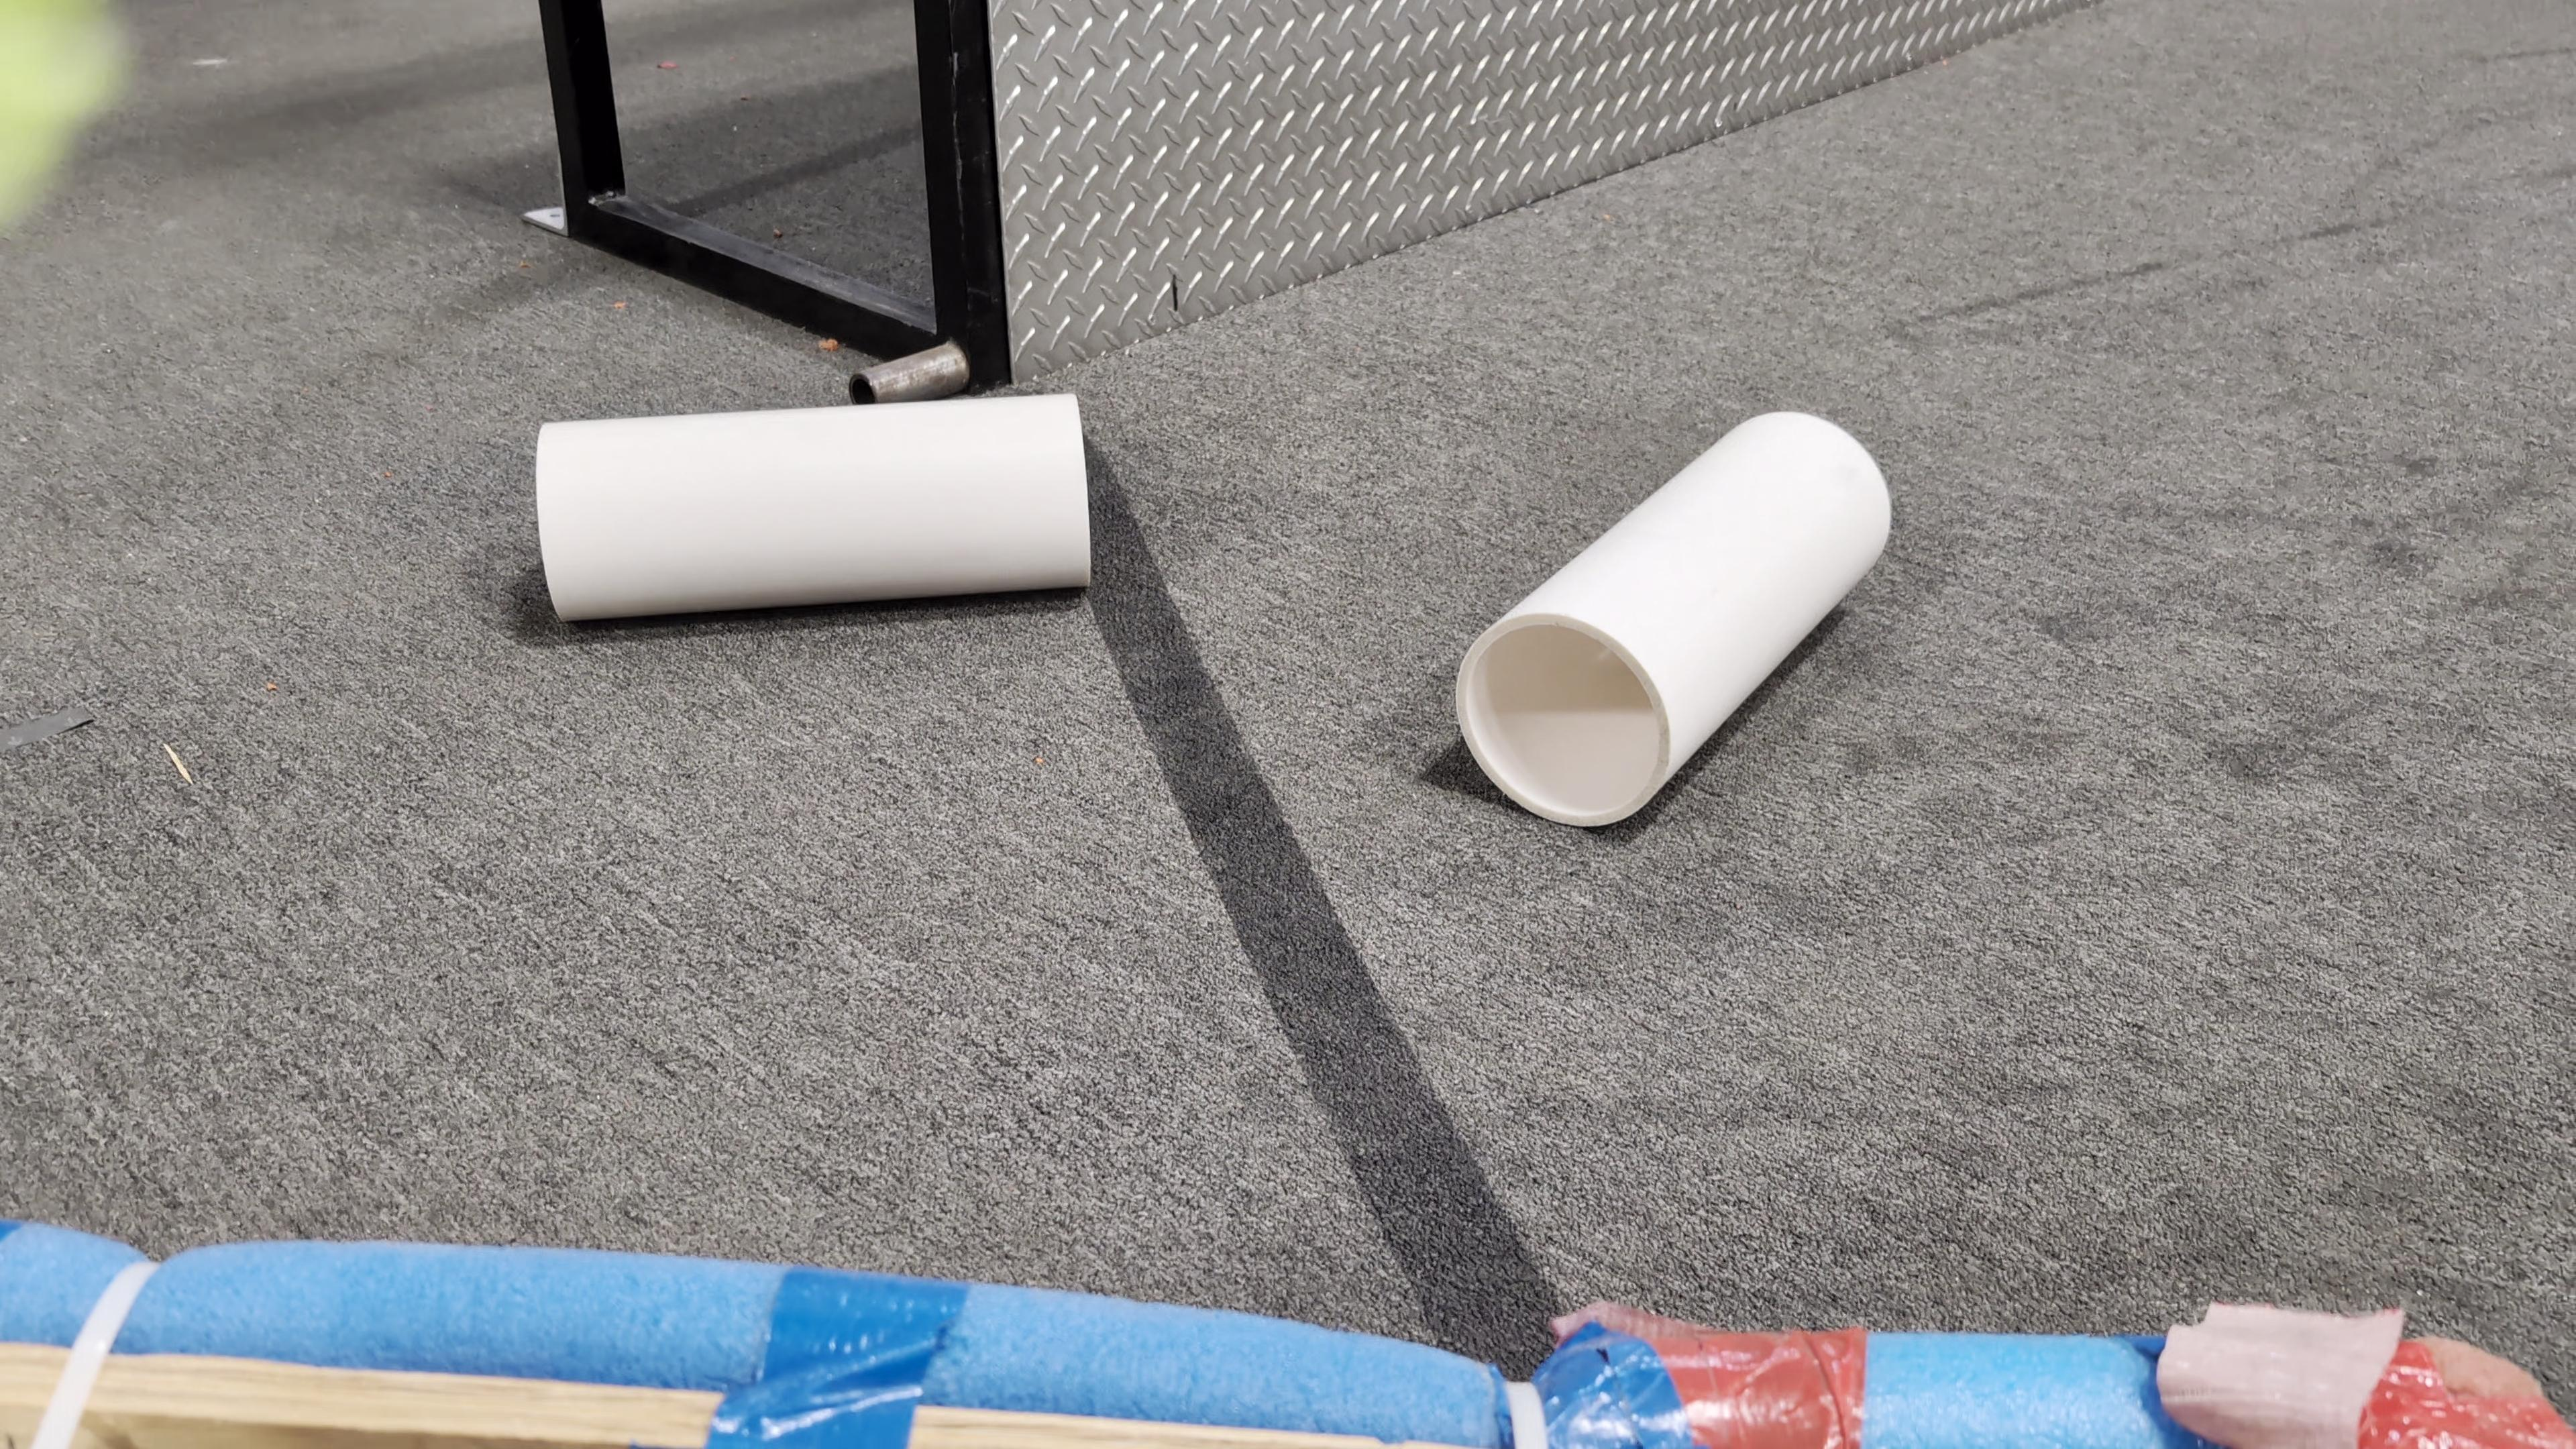coral: (1457, 406, 1894, 825), (534, 388, 1095, 621)
